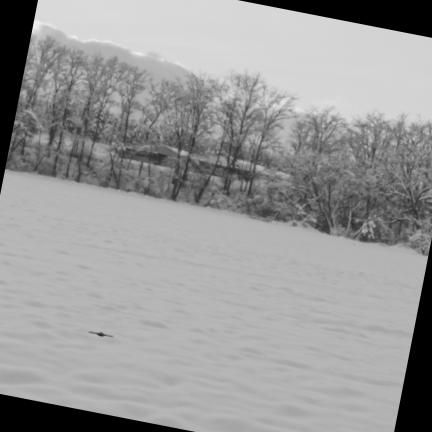Shahed: (90, 332, 113, 337)
